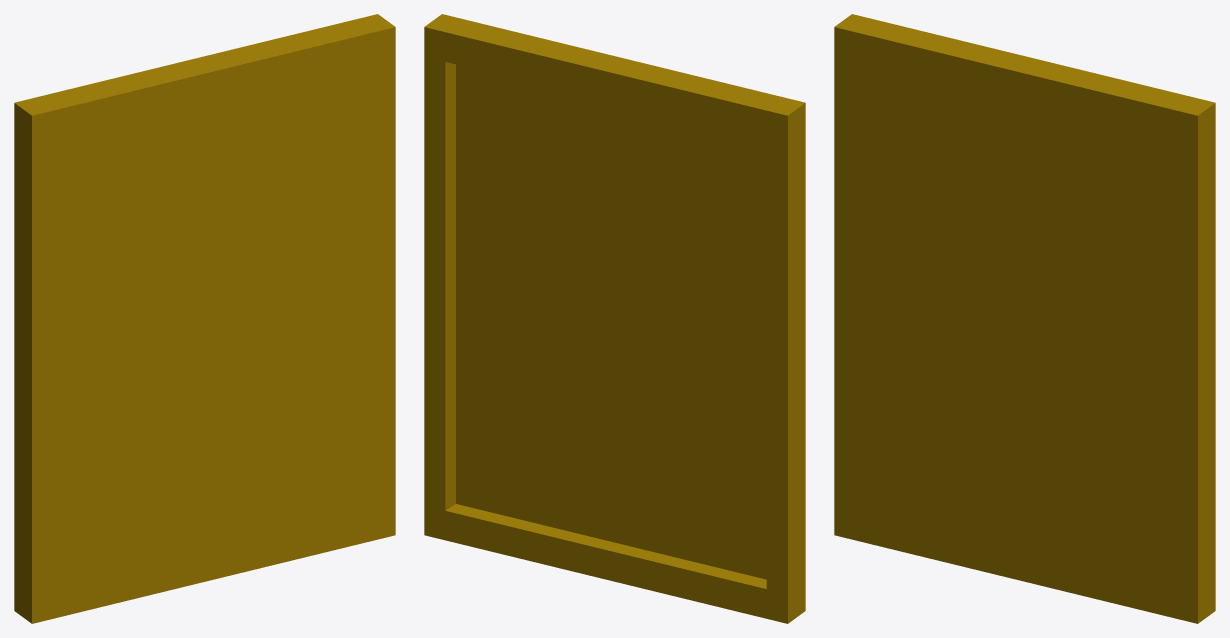
File: photo_frame.fbx
3 views of the same model, side by side, from view 1: azimuth 30°, elevation 25°; view 2: azimuth 150°, elevation 25°; view 3: azimuth 330°, elevation 25° (orthographic).
Visible parts, largest first — view 1: photo_frame; view 2: photo_frame; view 3: photo_frame.
Boxes of the visible parts, x1,y1,x2,y2 form: photo_frame: (14, 14, 395, 623); photo_frame: (424, 14, 805, 623); photo_frame: (834, 14, 1215, 623).
Size of the model in its own units: 2.07 by 2.76 by 0.176.
